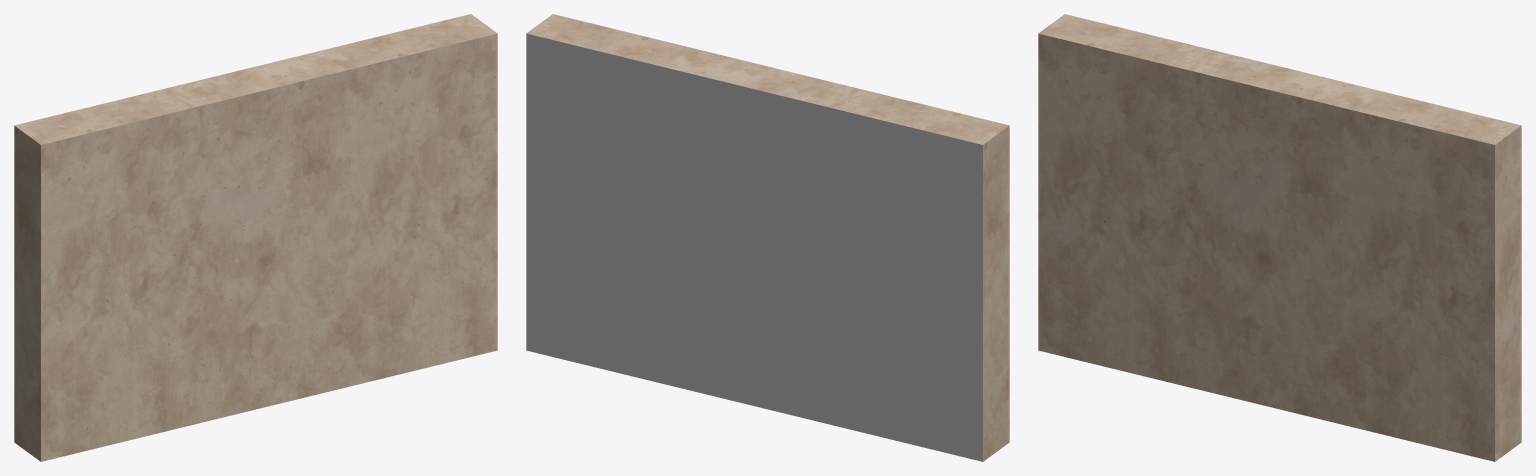
File: jov_inwall02.fbx
The picture shows the model from 3 angles, left to right: view 1: azimuth 30°, elevation 25°; view 2: azimuth 150°, elevation 25°; view 3: azimuth 330°, elevation 25°; orthographic projection.
Visible parts, largest first — view 1: jov_inwall02; view 2: jov_inwall02; view 3: jov_inwall02.
Part boxes in pixels (x1=…): jov_inwall02: x1=14, y1=14, x2=497, y2=461; jov_inwall02: x1=526, y1=14, x2=1009, y2=461; jov_inwall02: x1=1038, y1=14, x2=1521, y2=461.
Bounding box in the file's own units: 440 × 292 × 44.59.
